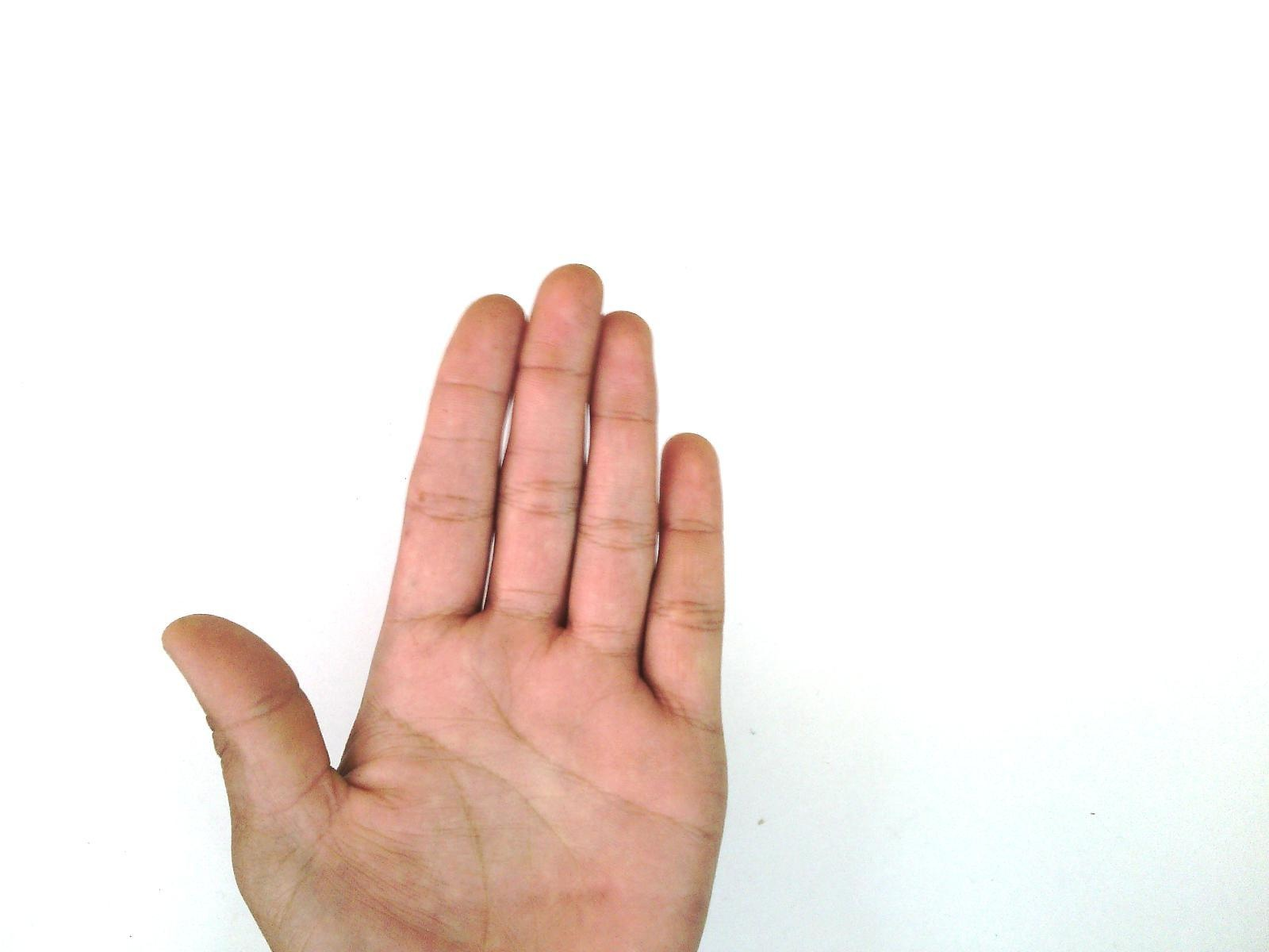open_palm: (161, 262, 733, 951)
